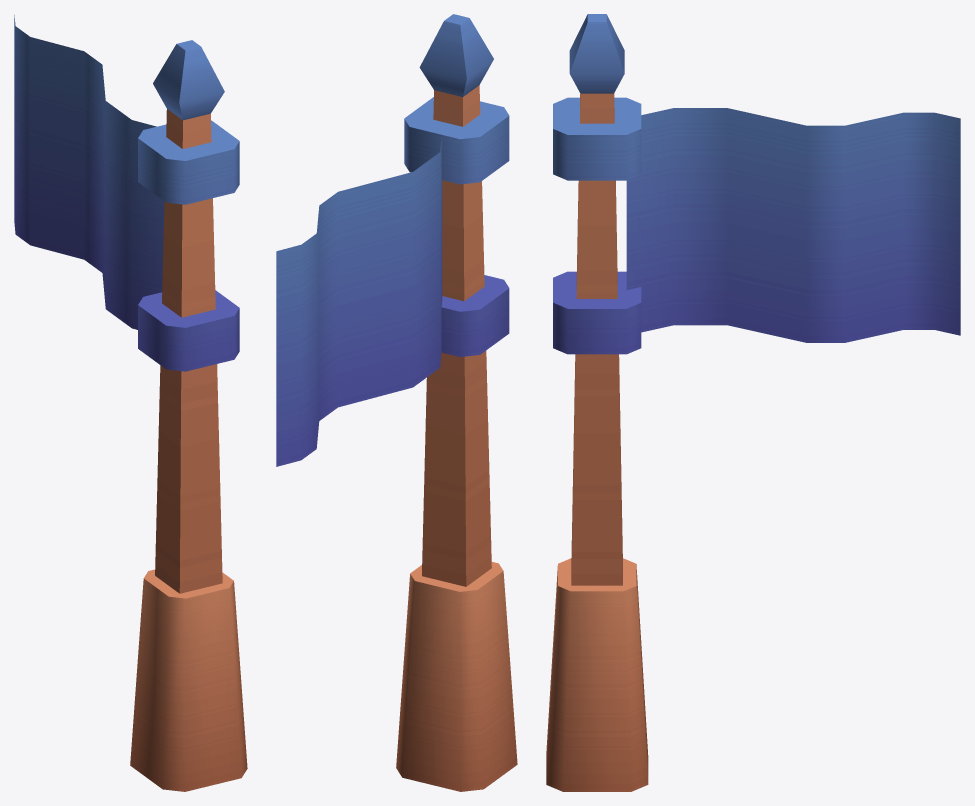
The model's file is flag.glb.
3 views of the same model, side by side, from view 1: azimuth 30°, elevation 25°; view 2: azimuth 150°, elevation 25°; view 3: azimuth 270°, elevation 25° (orthographic). The views are drawn at different scales.
Parts seen in each view (by area): view 1: flag; view 2: flag; view 3: flag.
Boxes of the visible parts, x1,y1,x2,y2 form: flag: (14, 15, 247, 791); flag: (276, 14, 517, 791); flag: (546, 14, 960, 791).
Bounding box in the file's own units: 0.1064 × 0.8656 × 0.4323.
Materials: 1 (1 with a texture image).
